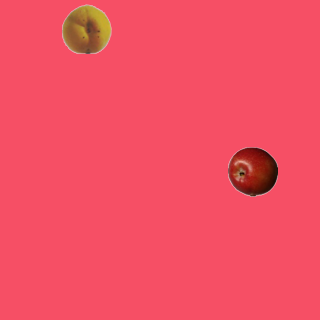Apple Braeburn: (227, 146, 277, 196)
Peach 2: (61, 3, 111, 53)
